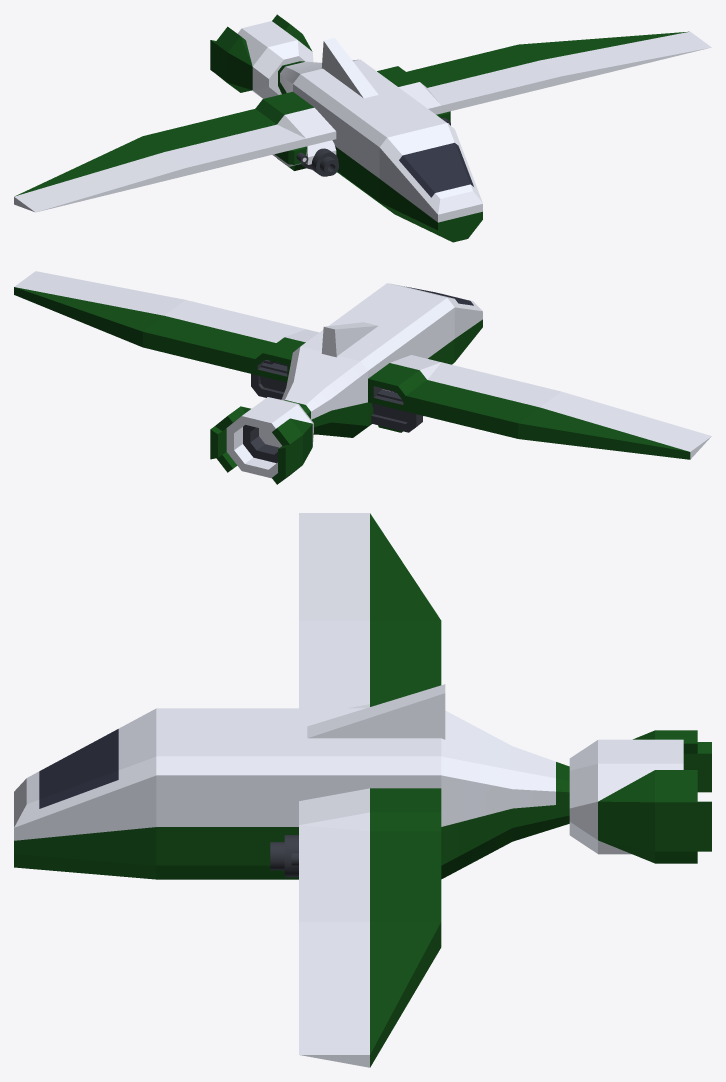
Rendered from Ship.fbx.
3 renders of one model, top to bottom at view 1: azimuth 30°, elevation 25°; view 2: azimuth 150°, elevation 25°; view 3: azimuth 270°, elevation 25°, orthographic. The views are drawn at different scales.
Visible parts, largest first — view 1: mergedBlocks; view 2: mergedBlocks; view 3: mergedBlocks.
Part boxes in pixels (x1,y1,x2,y2): mergedBlocks: (14, 14, 711, 242); mergedBlocks: (14, 271, 711, 484); mergedBlocks: (14, 513, 711, 1067).
Size of the model in its own units: 90 by 13.39 by 49.
